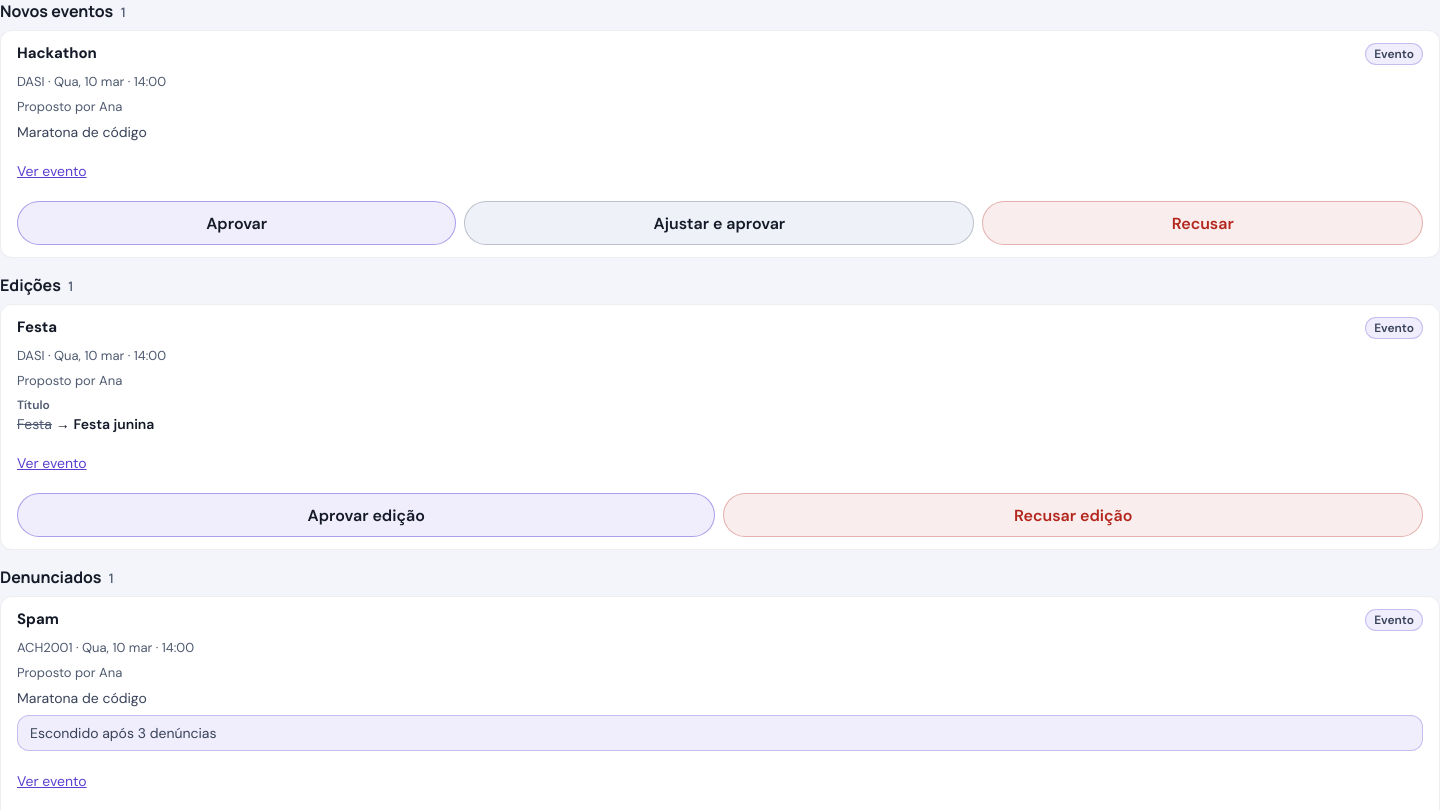
Test: ReviewQueue › recusar manda a note
The image size is (1440, 810).
Expected: the element "Hackathon" is shown, [0,30,1439,258]
Click the button "Recusar".
click(1203, 223)  # box [982,201,1423,245]
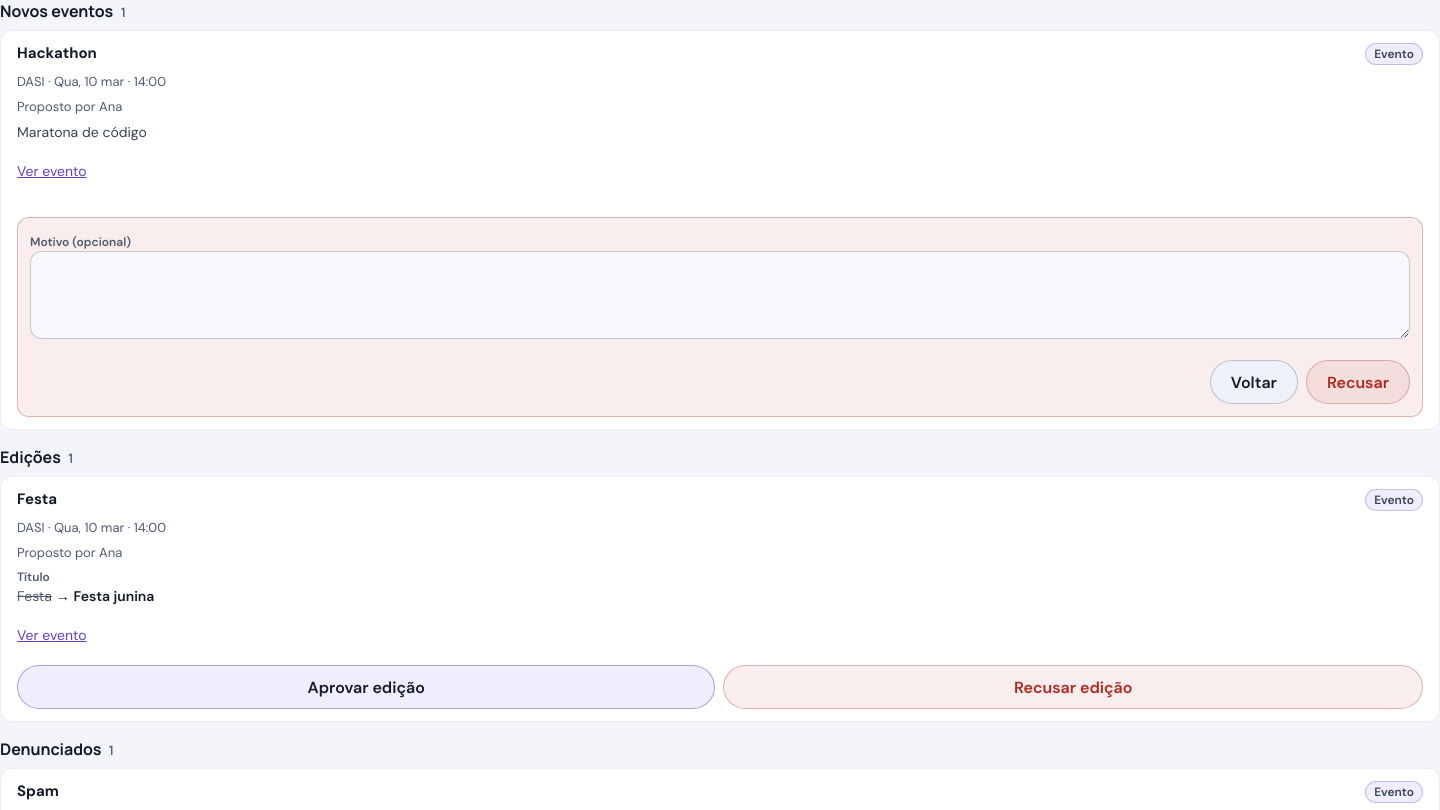
Type "Fora do escopo" into the text box labelled "Motivo (opcional)".
click(720, 295); type("Fora do escopo")  # box [30,251,1410,339]
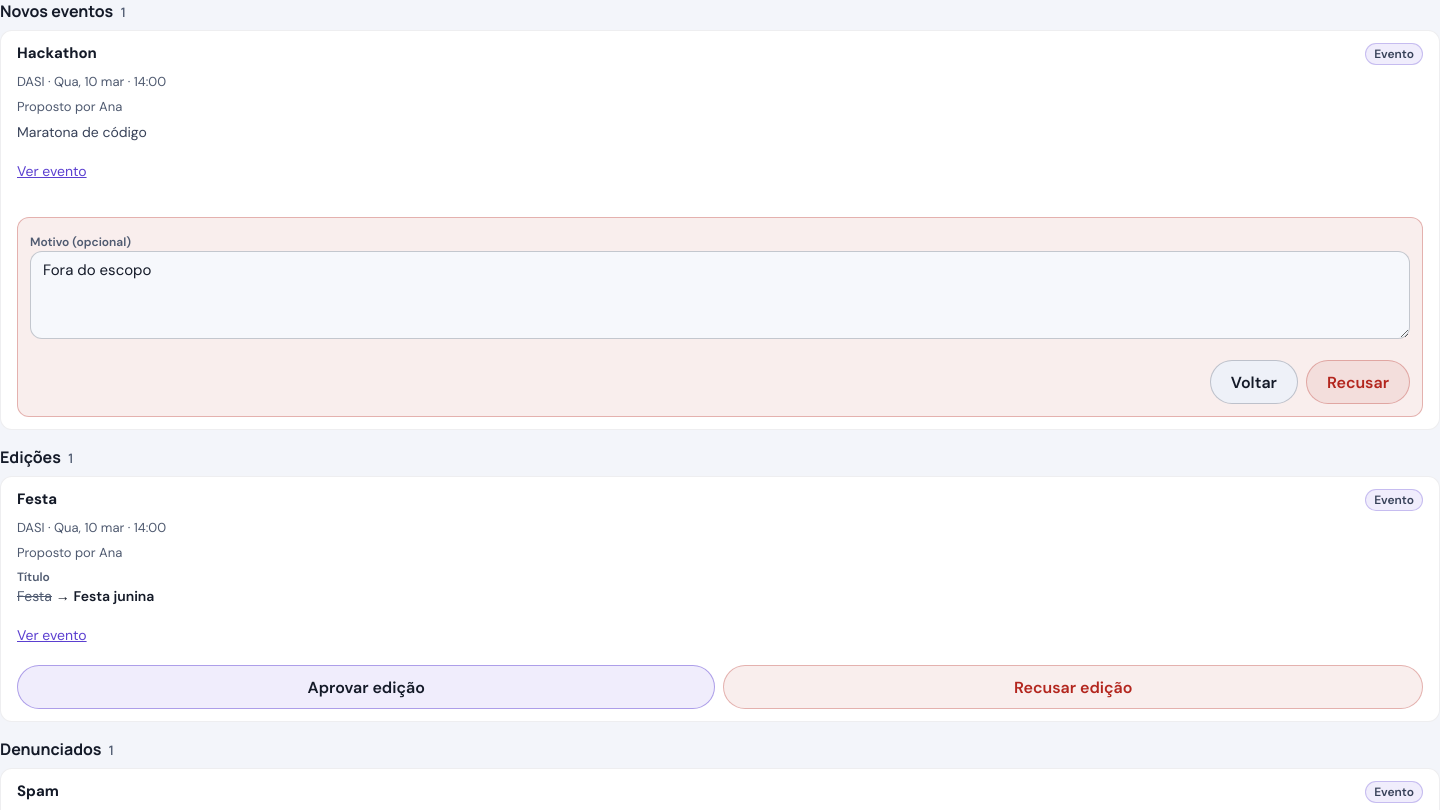
Click the button "Recusar".
click(1358, 382)  # box [1306,360,1410,404]
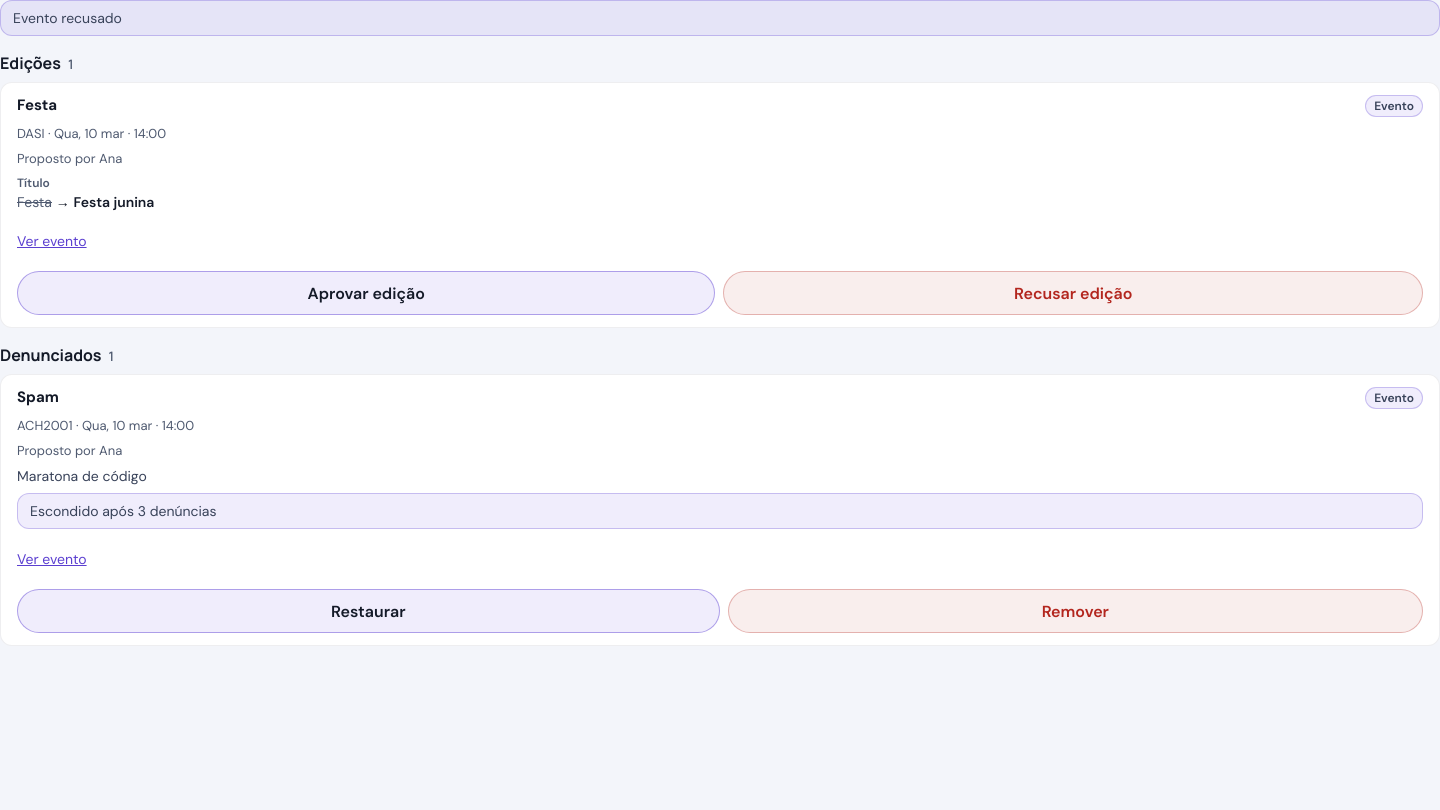
Now the heading "Hackathon" is gone
